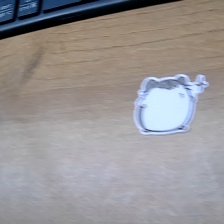mouse: (129, 72, 209, 138)
